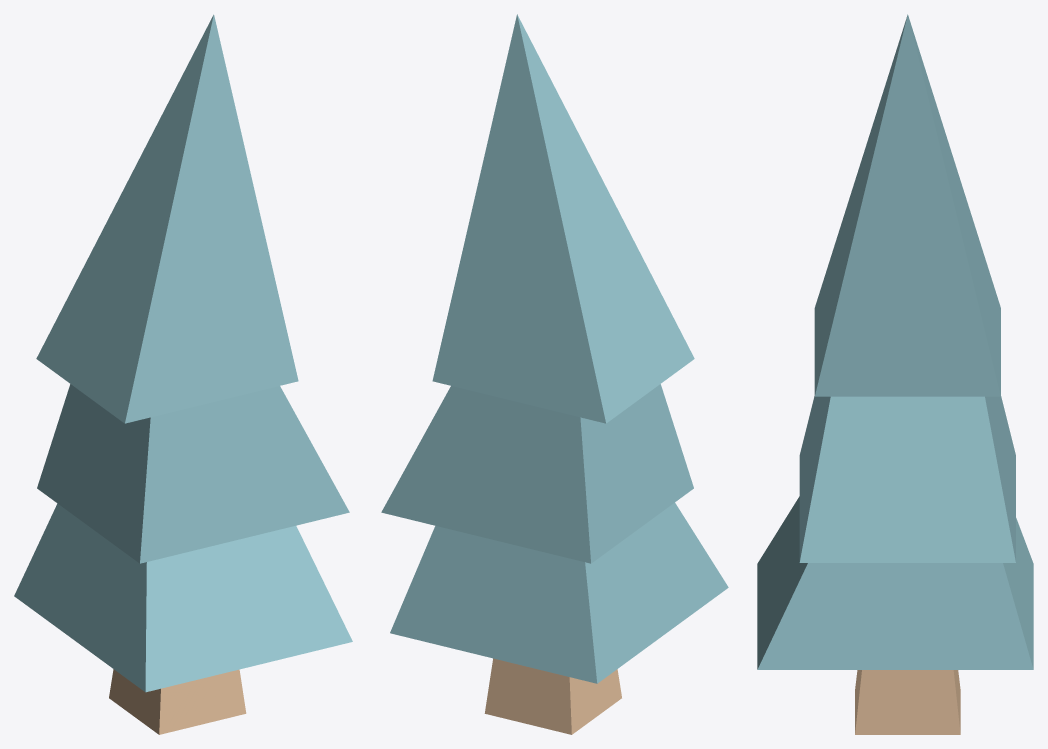
File: tree_pineSmall_square2.glb
The picture shows the model from 3 angles, left to right: view 1: azimuth 30°, elevation 25°; view 2: azimuth 150°, elevation 25°; view 3: azimuth 270°, elevation 25°; orthographic projection. The views are drawn at different scales.
Parts seen in each view (by area): view 1: tree_pineSmall_square2; view 2: tree_pineSmall_square2; view 3: tree_pineSmall_square2.
Part boxes in pixels (<box>): tree_pineSmall_square2: <box>14,14,352,734</box>; tree_pineSmall_square2: <box>381,14,728,734</box>; tree_pineSmall_square2: <box>757,14,1033,734</box>.
Bounding box in the file's own units: 0.3863 × 1.12 × 0.3919.
